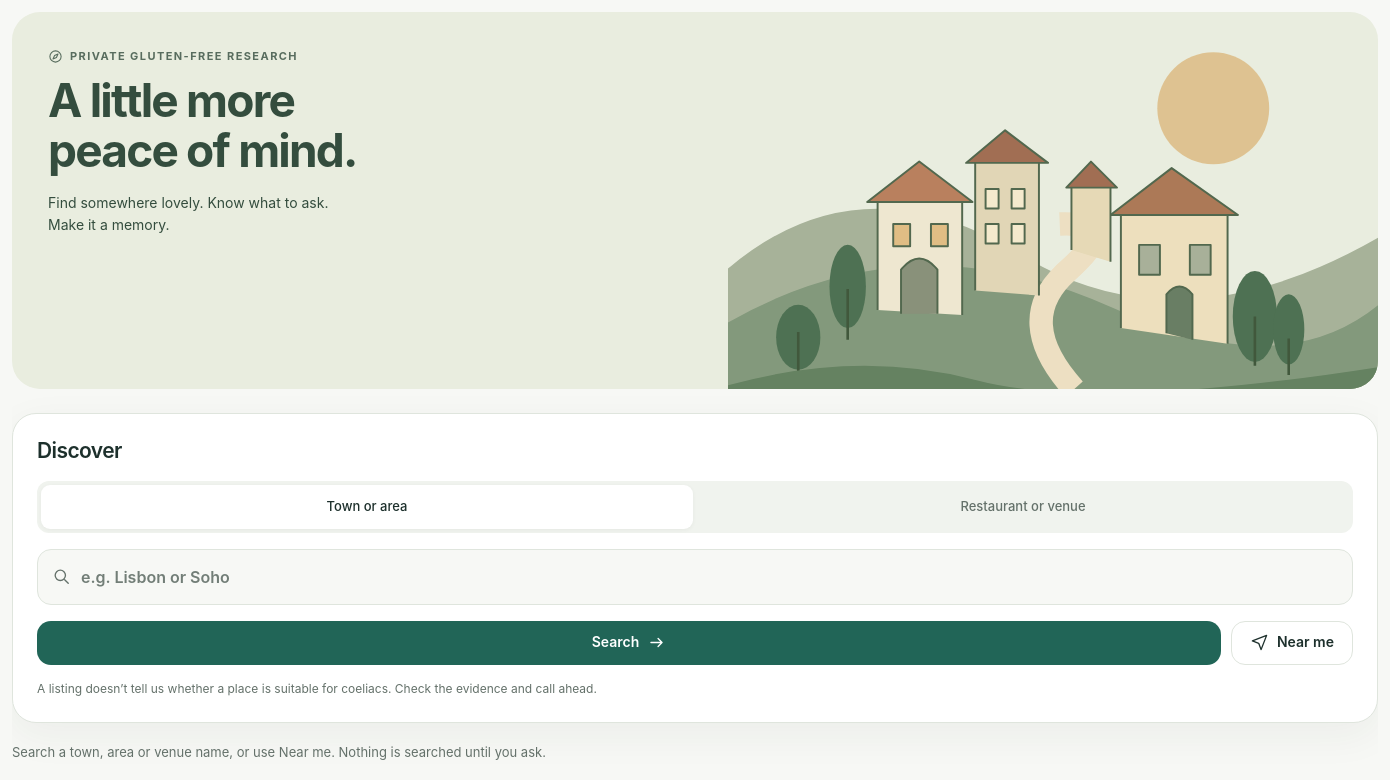
Test case: DiscoverPage › shows the empty state and no attribution when nothing is found
This screenshot has width=1390, height=780.
Type "Nowhere" into the field with test id "discover-query" at (710, 576), box [81,550,1338,604]
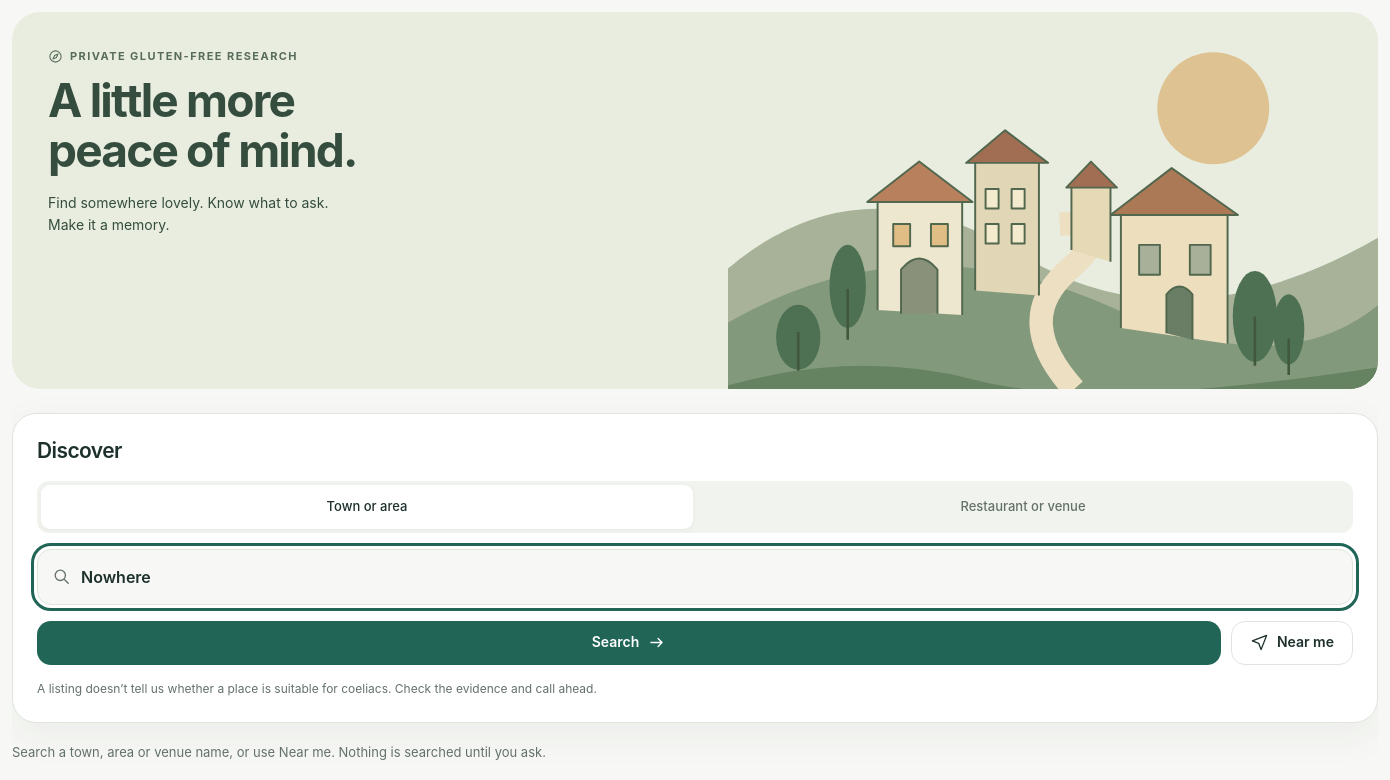
Click the button with test id "discover-submit" at (629, 642), box [37,620,1221,664]
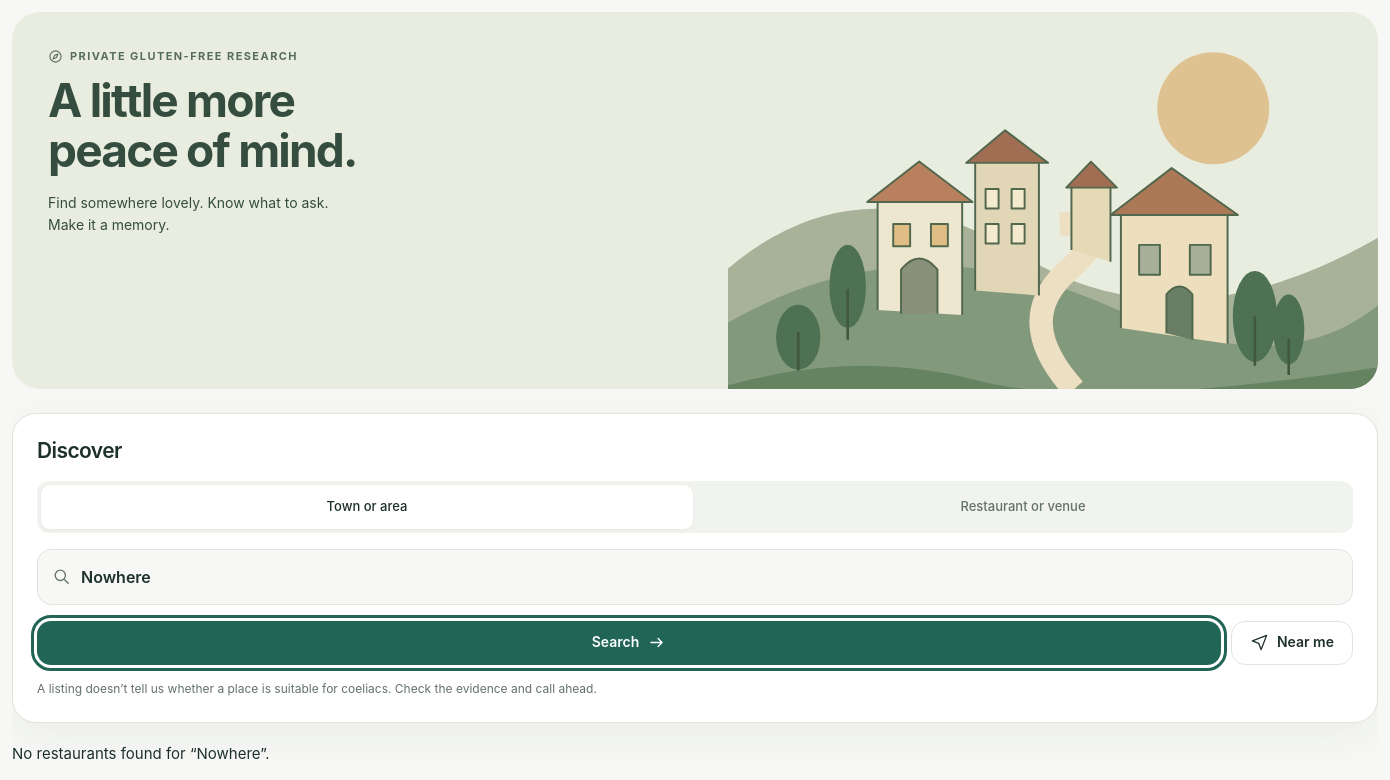
Expected: the message with test id "discover-state" shows "Nowhere", [166,744,265,763]
